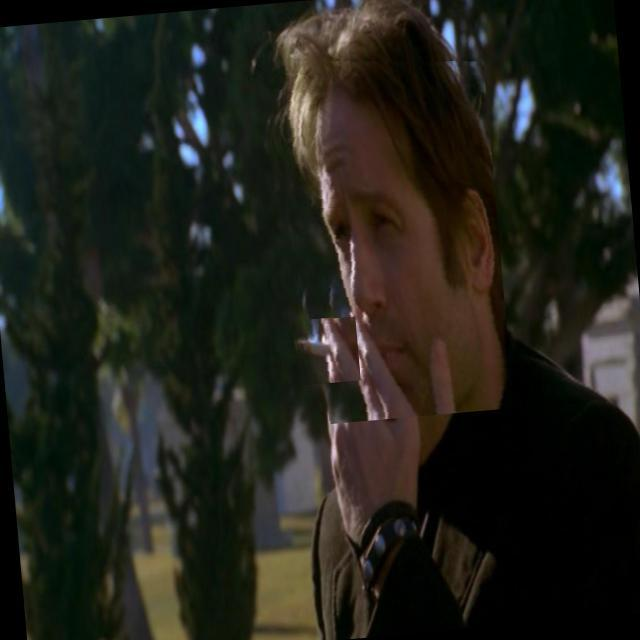cigarette: (292, 314, 360, 385)
